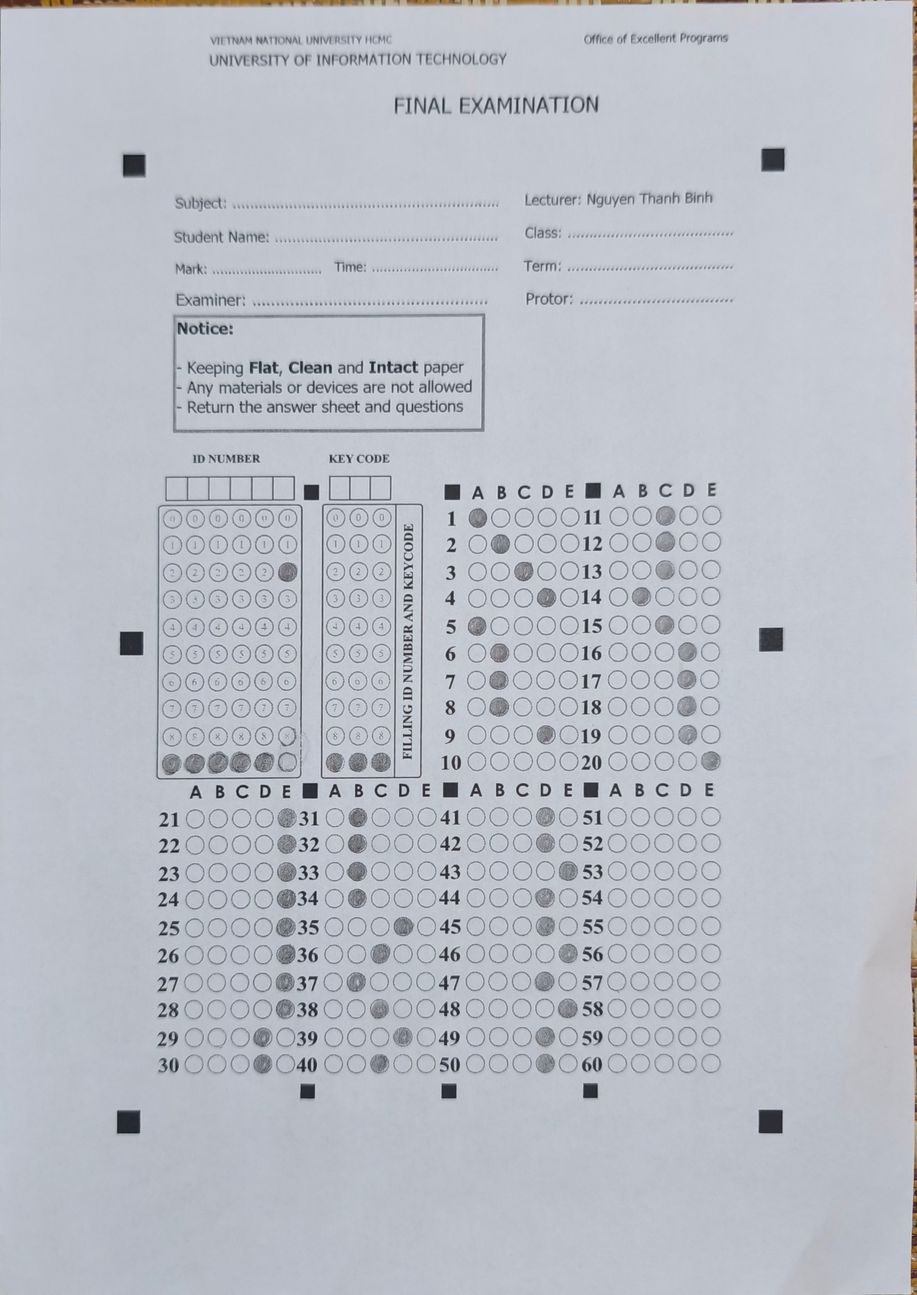info_region: (158, 507, 394, 778)
paper_region: (134, 163, 776, 1127)
q_1_20: (452, 489, 727, 792)
q_21_60: (158, 792, 727, 1092)
